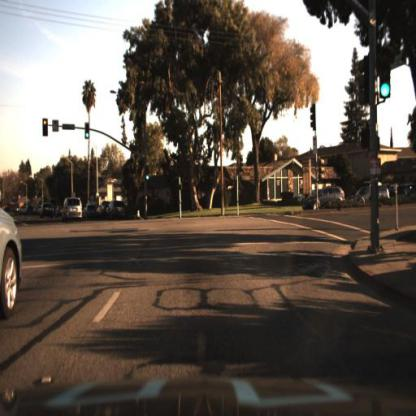car: (1, 174, 29, 355), (2, 187, 23, 346), (299, 182, 349, 219), (349, 181, 392, 212), (297, 184, 347, 210), (350, 183, 390, 206), (62, 196, 85, 227), (38, 198, 59, 227), (109, 197, 128, 223), (84, 202, 101, 224), (84, 201, 100, 224), (40, 203, 56, 222)
trafficLight-Green: (85, 123, 91, 141), (145, 166, 150, 184), (145, 170, 150, 186), (84, 130, 89, 144)
trafficLight-RedLeft: (42, 117, 50, 138), (43, 115, 48, 141)
